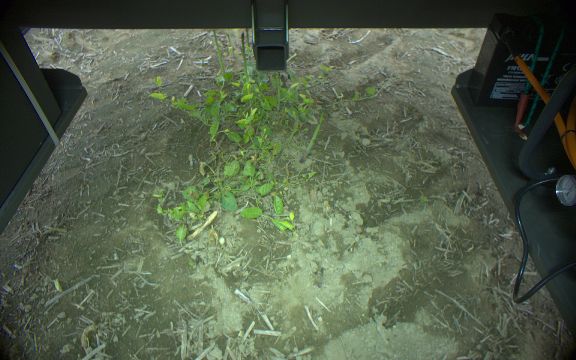aspa: (301, 100, 326, 162), (208, 28, 227, 83), (239, 32, 253, 92), (272, 71, 285, 111), (225, 28, 239, 65), (243, 27, 252, 57)
